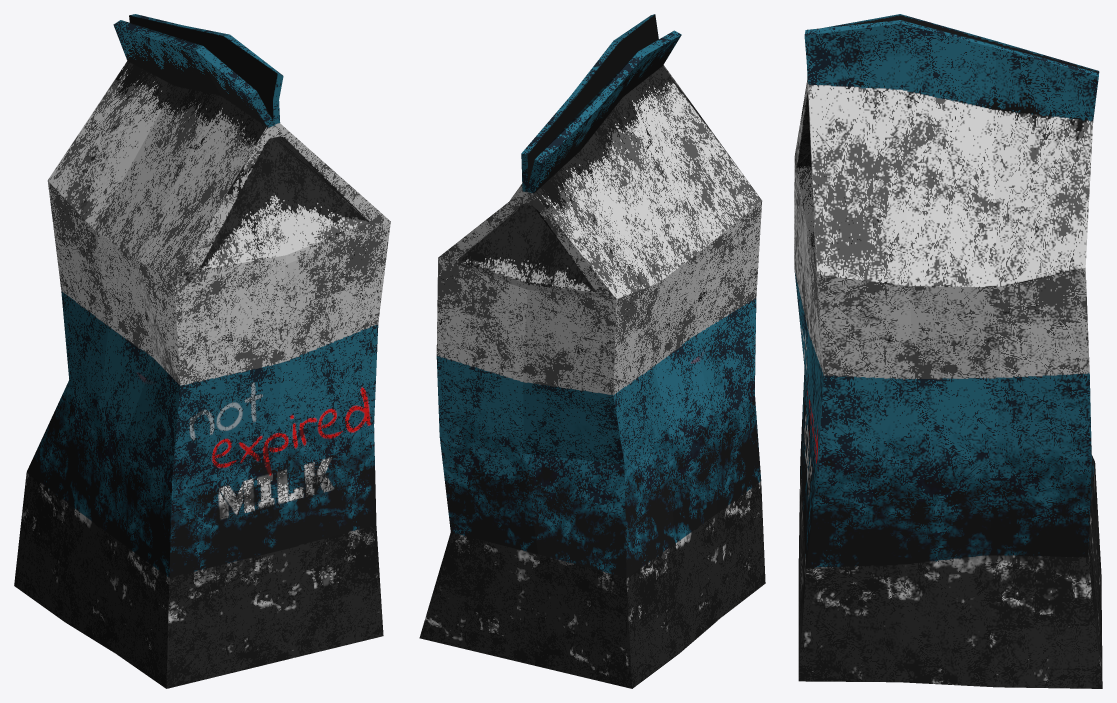
Rendered from Milk.fbx.
3 renders of one model, left to right at view 1: azimuth 30°, elevation 25°; view 2: azimuth 150°, elevation 25°; view 3: azimuth 270°, elevation 25°, orthographic. The views are drawn at different scales.
Parts seen in each view (by area): view 1: milk carton; view 2: milk carton; view 3: milk carton.
Part boxes in pixels (left/top/right/bottom): milk carton: left=14, top=14, right=390, bottom=688; milk carton: left=419, top=14, right=765, bottom=688; milk carton: left=794, top=14, right=1102, bottom=688.
Size of the model in its own units: 110 by 263 by 120.
Materials: 1 (1 with a texture image).
